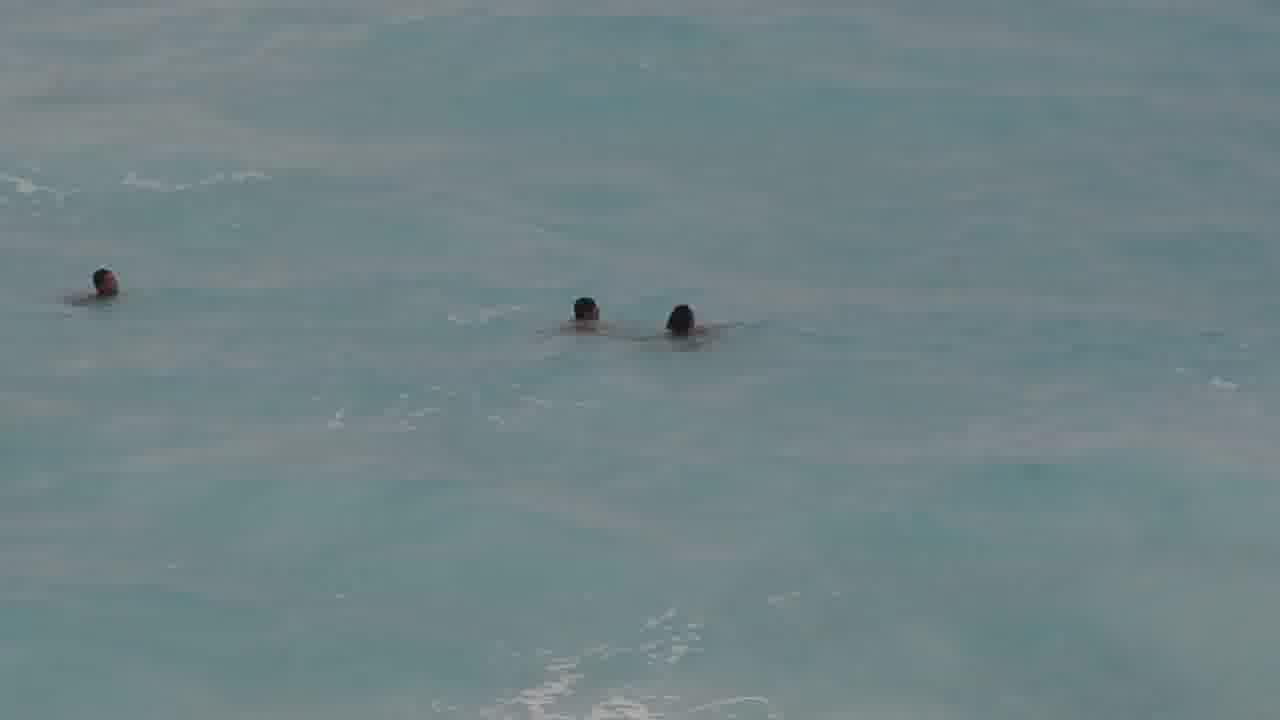swimmer: (562, 285, 610, 336), (79, 260, 120, 302), (664, 302, 702, 347)
